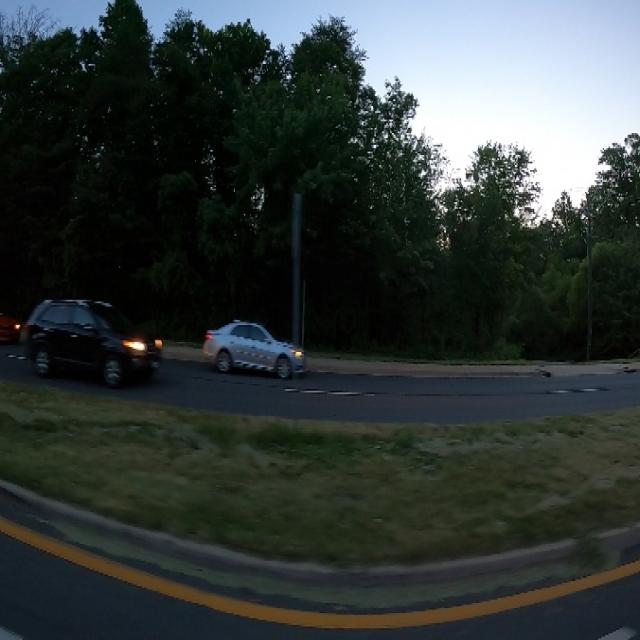cars: (17, 285, 172, 397), (201, 308, 303, 386), (0, 300, 24, 362)
